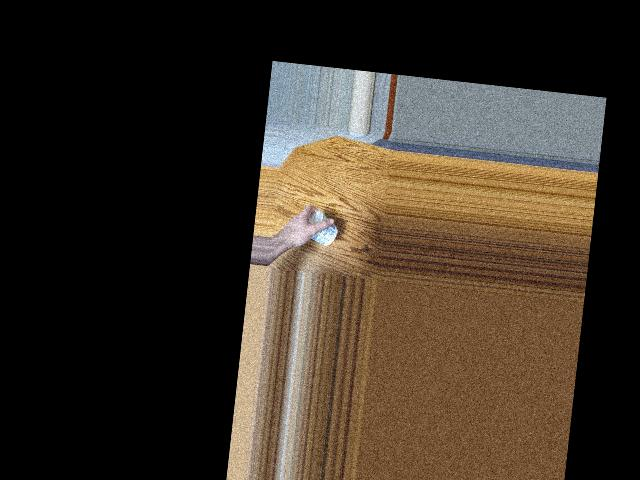cotage: (307, 209, 339, 244)
